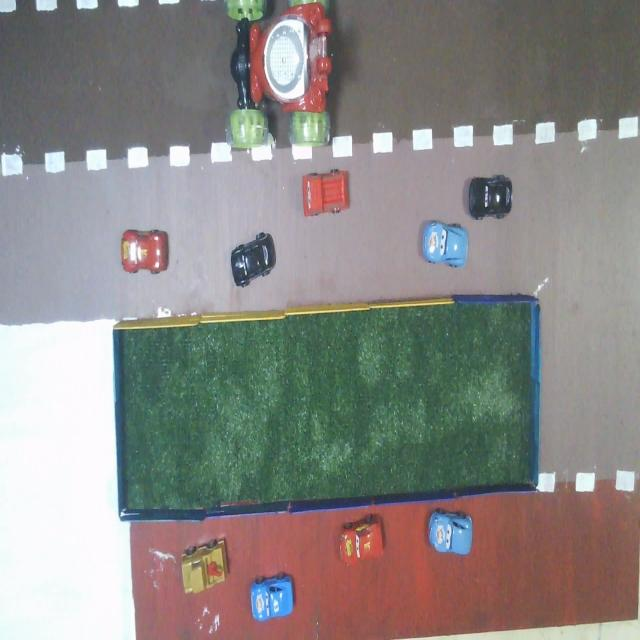small cars: (181, 539, 228, 593), (231, 233, 275, 286), (340, 515, 383, 566), (423, 222, 468, 267), (121, 230, 168, 273), (251, 574, 293, 621), (429, 510, 472, 555), (469, 175, 512, 219)
